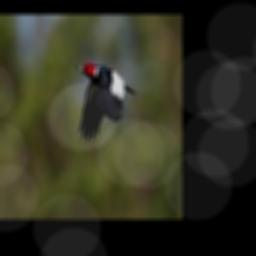Woodpecker: (76, 62, 137, 140)
